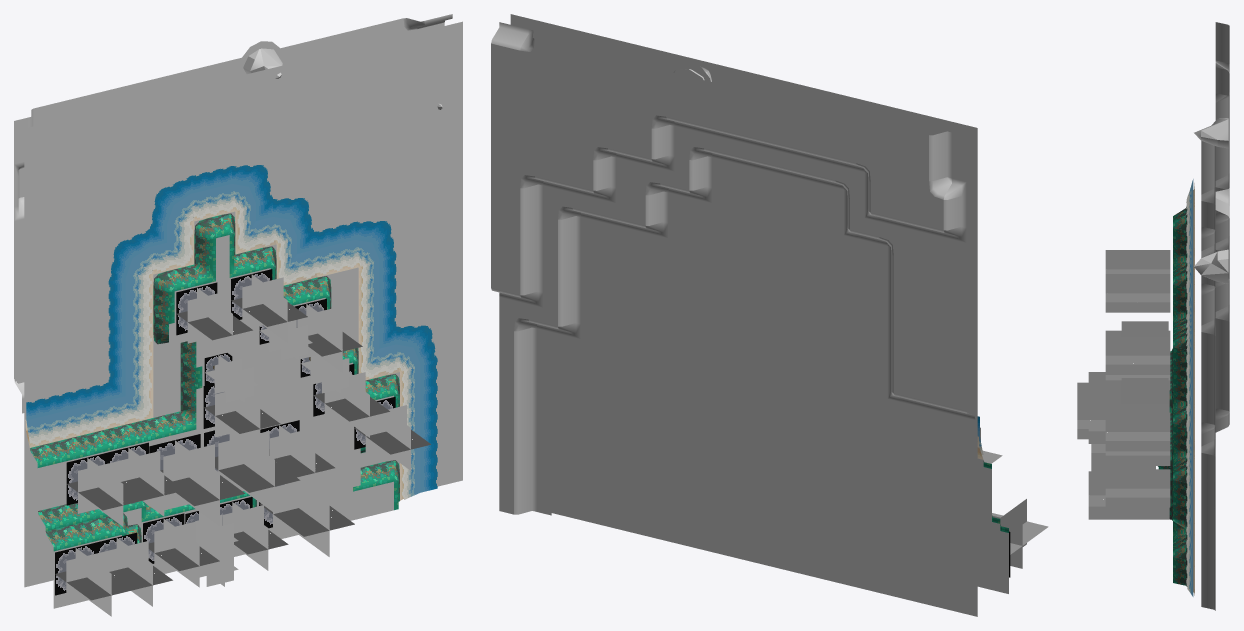
The model's file is Barrier-Reef_12_11.obj.
The picture shows the model from 3 angles, left to right: view 1: azimuth 30°, elevation 25°; view 2: azimuth 150°, elevation 25°; view 3: azimuth 270°, elevation 25°; orthographic projection. The views are drawn at different scales.
Parts seen in each view (by area): view 1: map; view 2: map; view 3: map.
Boxes of the visible parts, bbox=[...] form: map: bbox=[14, 14, 462, 616]; map: bbox=[491, 14, 1048, 616]; map: bbox=[1077, 22, 1229, 610].
Bounding box in the file's own units: 32 × 32.92 × 10.75.
